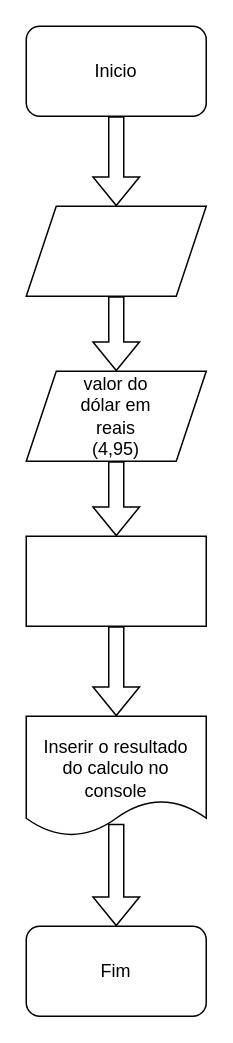
Some shapes in this 233 by 1043 pixel diagram are drawn without their labels. The shapes that lost their labels are listed below. From the top down, each one's centre as x and y in pixels, then its label:
At (115,250): "Inserir a quantidade de dolares que o usuário possui".
At (115,580): "fazer o calculo de dólar para reais".
